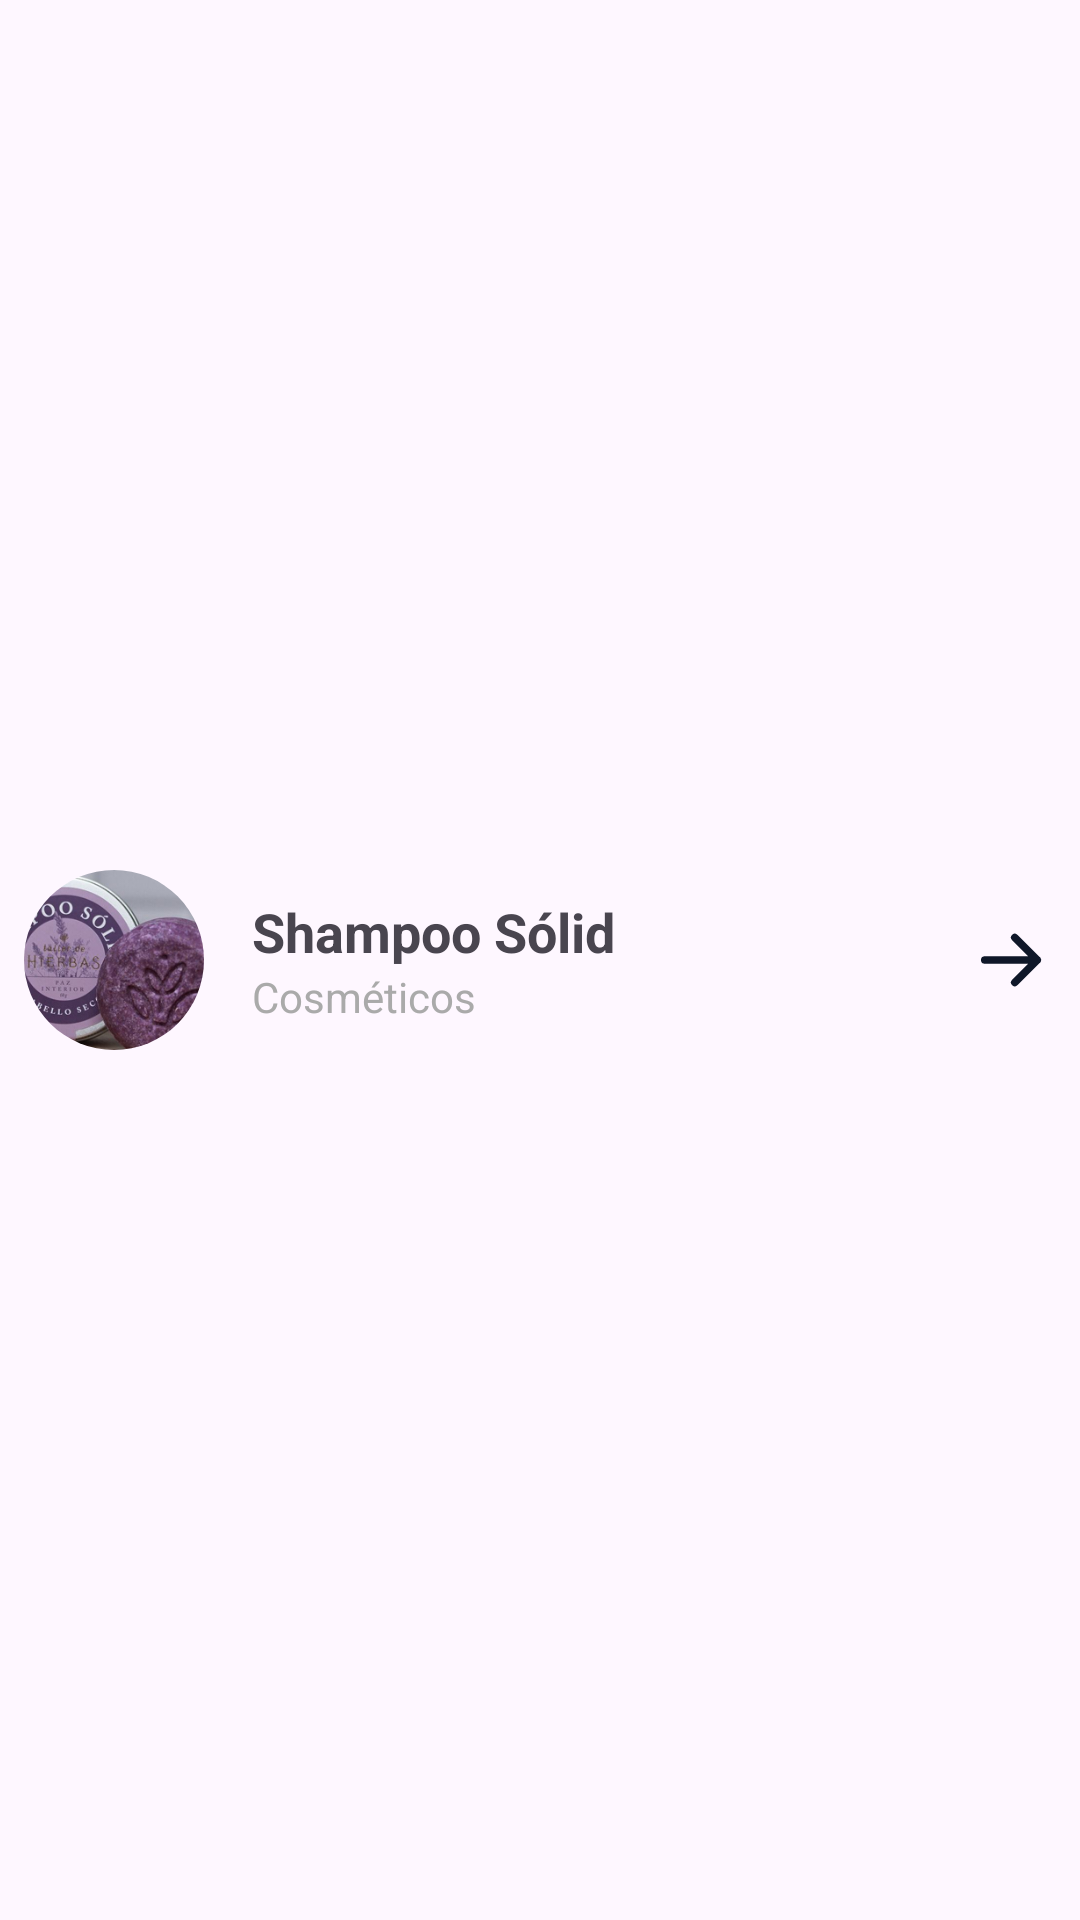

Icon click points for this 1080px×1920px phone screenshot, format (x,y):
arrow right: (1011,960)
product: (114,960)
